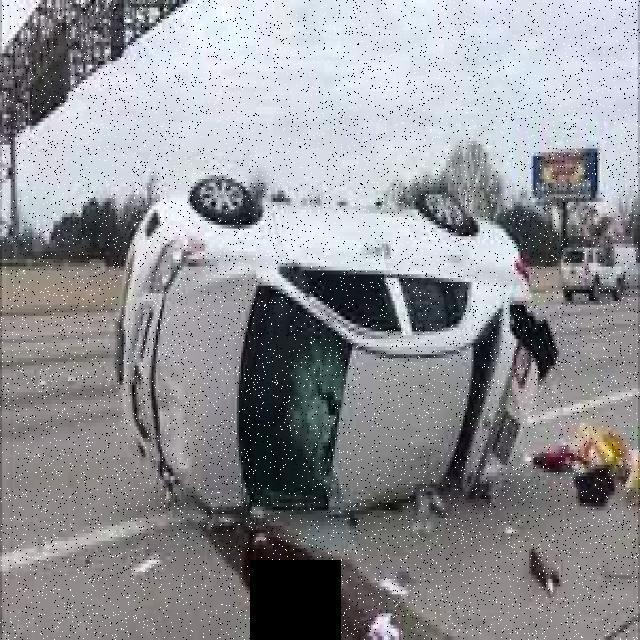accident: (107, 166, 540, 524)
